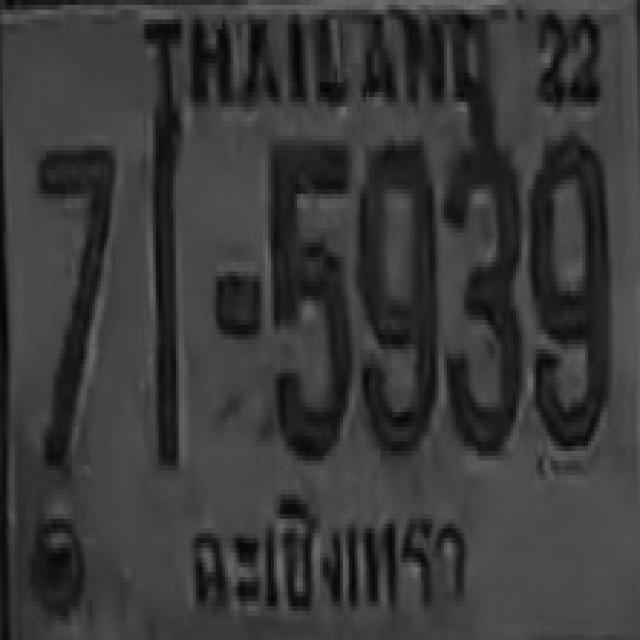3: (442, 134, 520, 448)
5: (267, 138, 350, 458)
7: (35, 140, 115, 466), (35, 140, 115, 364)
9: (526, 131, 610, 446), (356, 136, 437, 451)
Chachoengsao: (182, 497, 481, 628)
